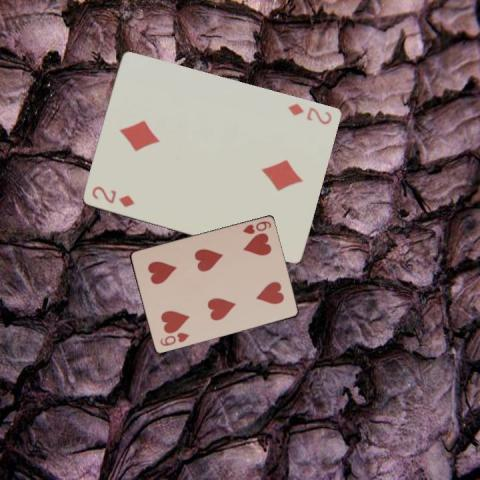2d: (286, 100, 334, 126), (89, 182, 137, 208)
6h: (239, 218, 272, 236), (156, 330, 190, 347)
